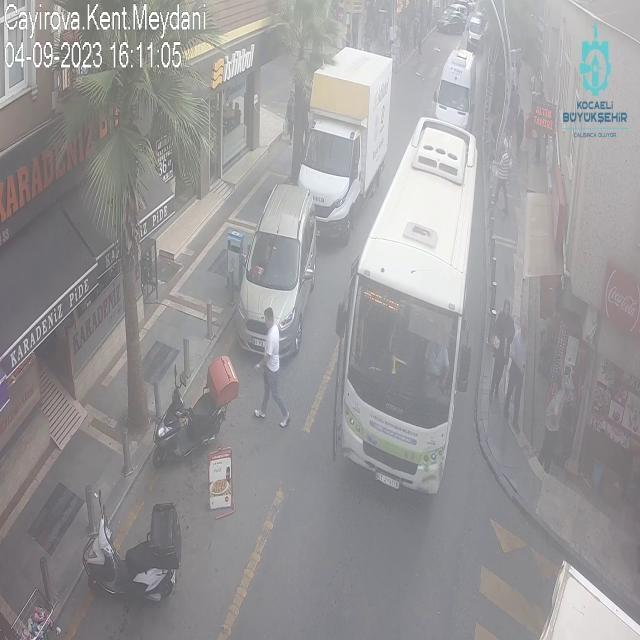Bus: (333, 116, 483, 497)
Car: (232, 180, 316, 361), (437, 15, 466, 34)
Cycle: (79, 490, 184, 609), (147, 353, 240, 467)
Truck: (293, 43, 393, 245)
Van: (432, 45, 478, 141)
